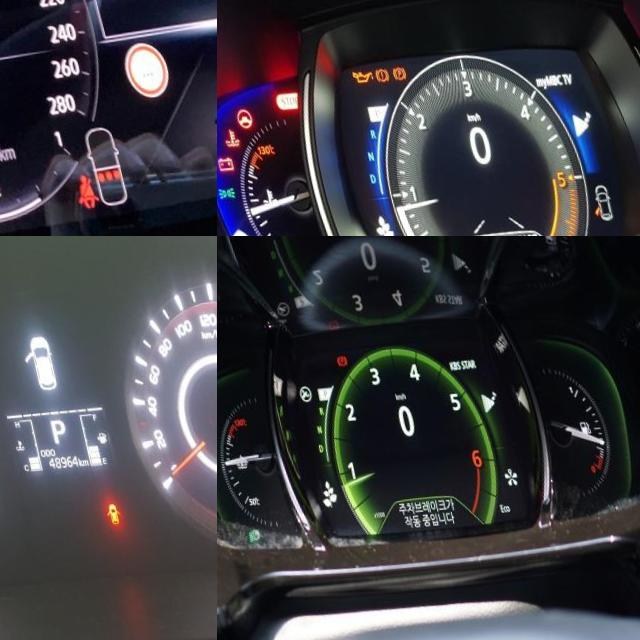Doors: (85, 511, 102, 534)
Engine cooling system: (217, 129, 228, 150)
Low beam: (227, 532, 242, 546)
SideLamp: (217, 187, 221, 202)
